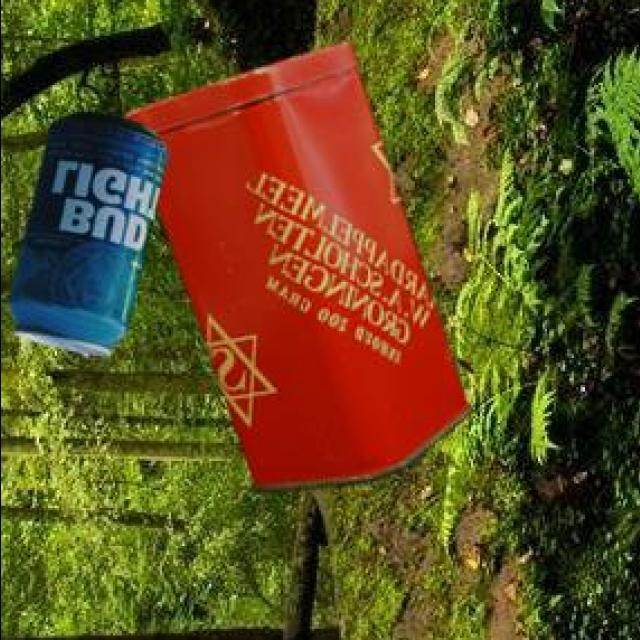logam: (120, 37, 467, 489), (6, 109, 164, 352)
